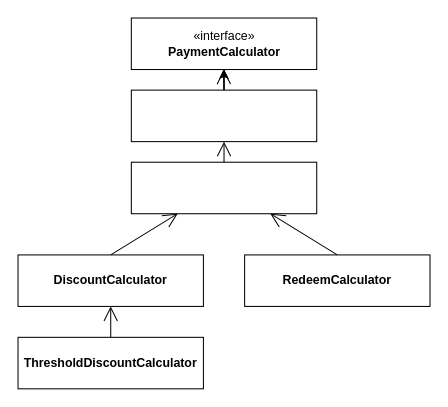
Some shapes in this 448 by 407 pixel diagram are drawn without their labels. The centre of each missing label's shape, as x and y in pixels:
EmptyCalculator: [223,187]
PaymentCalculatorImpl: [223,115]
